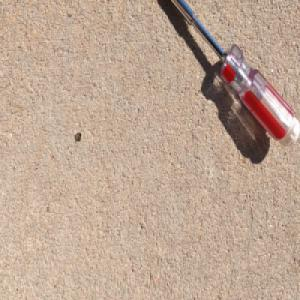Screwdriver: (168, 0, 300, 148)
